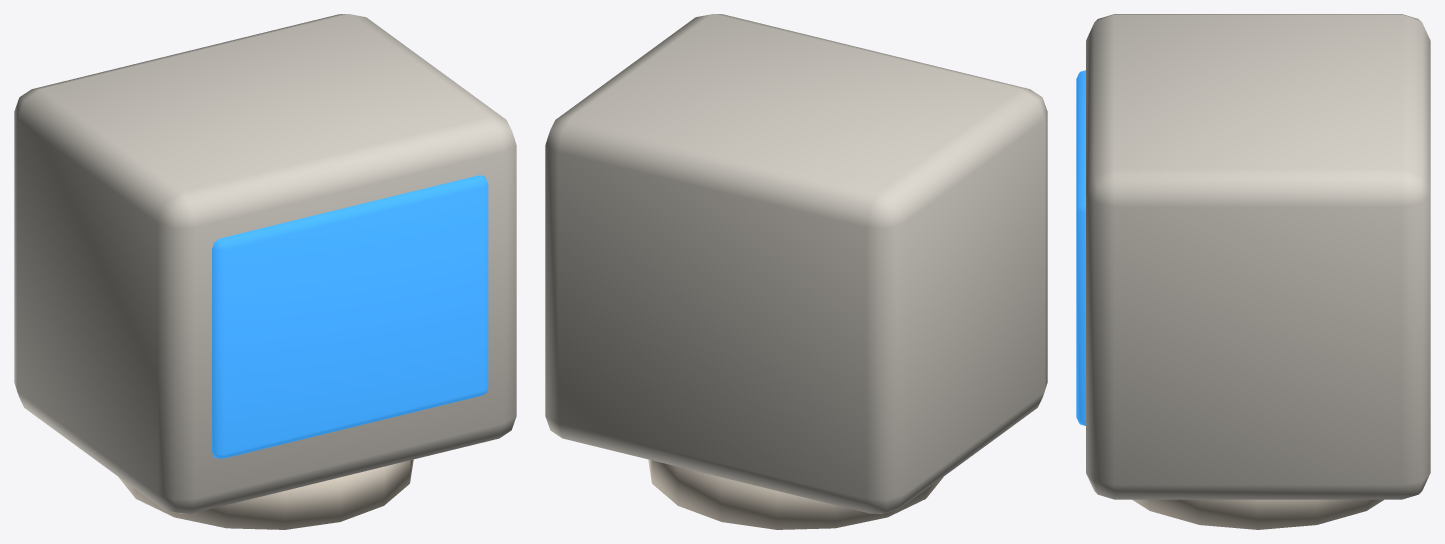
Rendered from Decor_DecorativeMonitor.fbx.
3 renders of one model, left to right at view 1: azimuth 30°, elevation 25°; view 2: azimuth 150°, elevation 25°; view 3: azimuth 270°, elevation 25°, orthographic. The views are drawn at different scales.
Visible parts, largest first — view 1: MiniMon_Housing, MiniMon_Screen, MiniMon_Stand; view 2: MiniMon_Housing, MiniMon_Stand; view 3: MiniMon_Housing, MiniMon_Stand, MiniMon_Screen.
Boxes of the visible parts, left/top/right/bottom form: MiniMon_Housing: left=14, top=14, right=516, bottom=513; MiniMon_Screen: left=212, top=175, right=488, bottom=458; MiniMon_Stand: left=118, top=459, right=413, bottom=529; MiniMon_Housing: left=545, top=14, right=1047, bottom=513; MiniMon_Stand: left=648, top=459, right=943, bottom=529; MiniMon_Housing: left=1086, top=14, right=1430, bottom=499; MiniMon_Stand: left=1132, top=499, right=1383, bottom=529; MiniMon_Screen: left=1076, top=70, right=1085, bottom=425.
Size of the model in its own units: 4.4 by 4.3 by 3.7.
